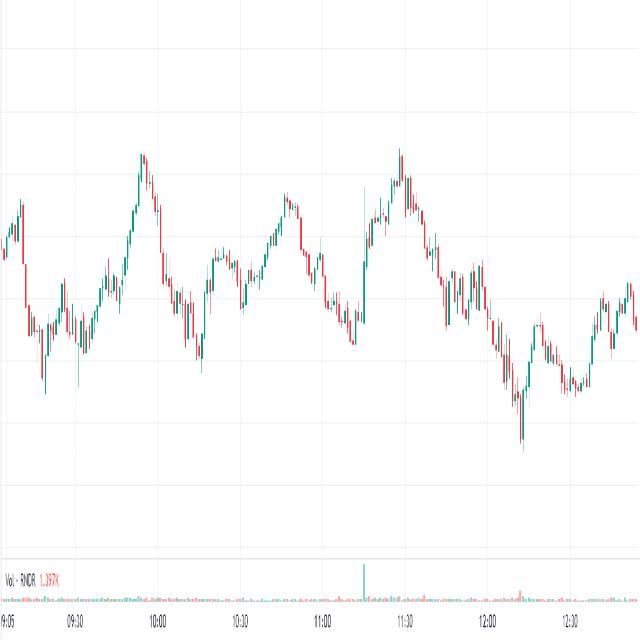Channel-down: (456, 226, 542, 466)
Rounding-Bottom: (18, 198, 144, 375)
